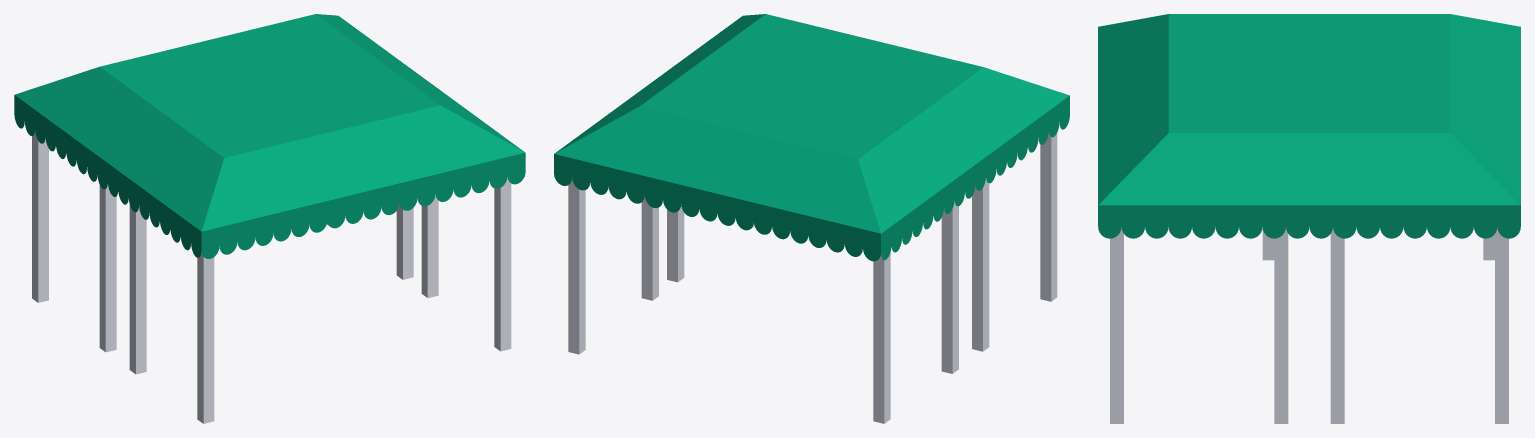
The model's file is tente_petite.fbx.
3 renders of one model, left to right at view 1: azimuth 30°, elevation 25°; view 2: azimuth 150°, elevation 25°; view 3: azimuth 270°, elevation 25°, orthographic. The views are drawn at different scales.
Visible parts, largest first — view 1: mergedBlocks; view 2: mergedBlocks; view 3: mergedBlocks.
Part boxes in pixels (x1,y1,x2,y2): mergedBlocks: (14, 14, 525, 423); mergedBlocks: (554, 14, 1069, 423); mergedBlocks: (1098, 14, 1520, 423).
Bounding box in the file's own units: 18 × 12.5 × 18.
